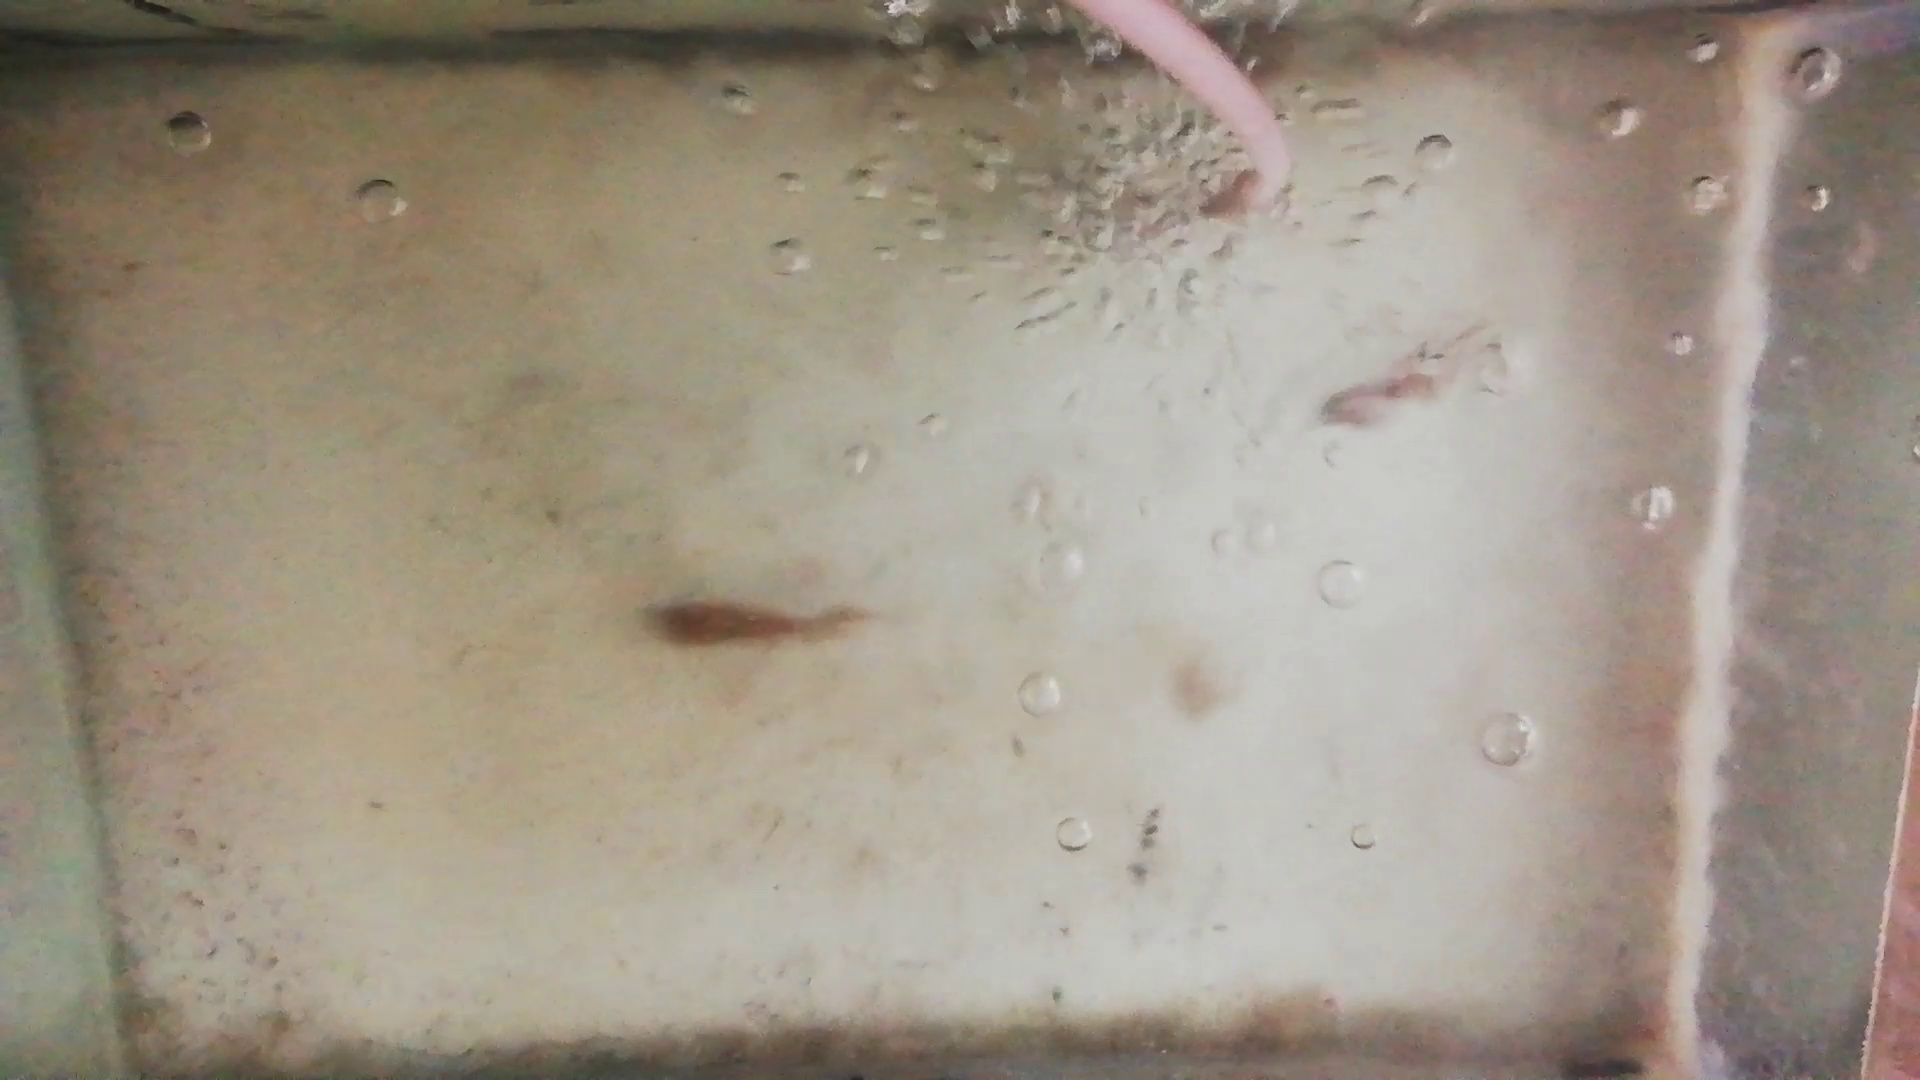fish: (640, 601, 881, 644), (1309, 364, 1445, 425)
